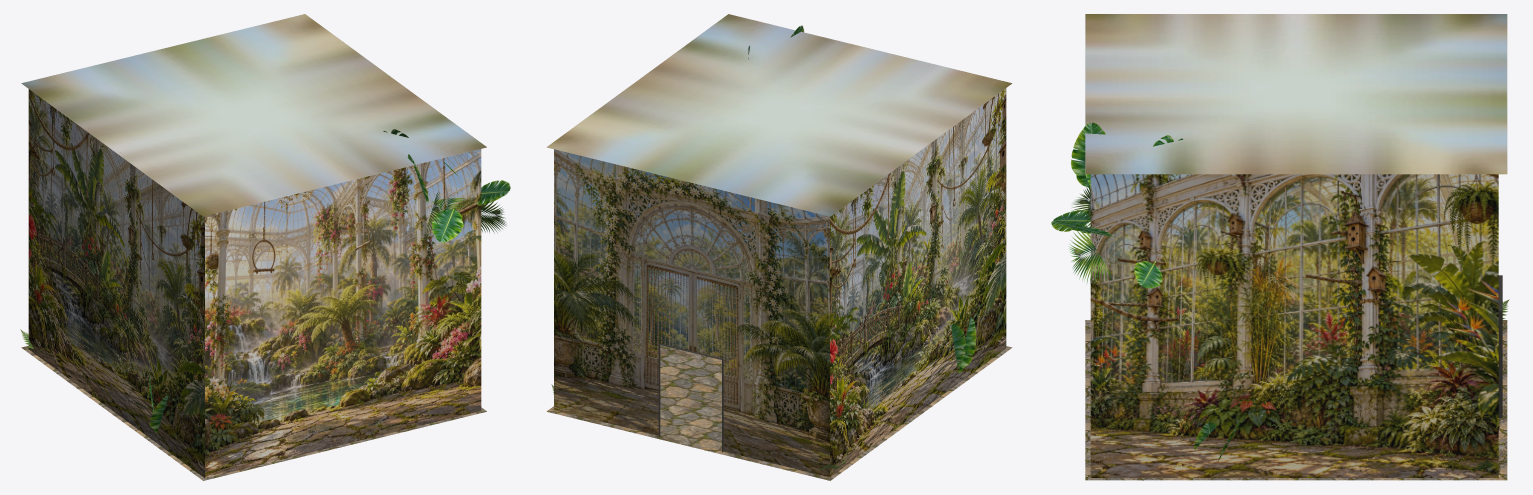
File: aviary.glb
The picture shows the model from 3 angles, left to right: view 1: azimuth 30°, elevation 25°; view 2: azimuth 150°, elevation 25°; view 3: azimuth 270°, elevation 25°; orthographic projection. The views are drawn at different scales.
Parts seen in each view (by area): view 1: Mural.aviary.back, Mural.aviary.ceiling, Mural.aviary.right, Card.jungle.leaves-1, Floor, Card.jungle.leaves-2; view 2: Mural.aviary.front, Mural.aviary.ceiling, Mural.aviary.right, Floor, Card.jungle.leaves-1, Trim; view 3: Mural.aviary.left, Mural.aviary.ceiling, Floor, Card.jungle.leaves-1, Card.jungle.leaves-2, Trim.
Boxes of the visible parts, box(x1,y1,x2,y2) form: Mural.aviary.back: box(205, 149, 481, 478); Mural.aviary.ceiling: box(21, 14, 486, 216); Mural.aviary.right: box(28, 89, 204, 477); Card.jungle.leaves-1: box(146, 154, 510, 432); Floor: box(21, 346, 486, 480); Card.jungle.leaves-2: box(425, 191, 505, 235); Mural.aviary.front: box(554, 149, 829, 477); Mural.aviary.ceiling: box(546, 14, 1011, 216); Mural.aviary.right: box(830, 88, 1006, 476); Floor: box(547, 345, 1012, 480); Card.jungle.leaves-1: box(790, 25, 976, 373); Trim: box(658, 343, 723, 452); Mural.aviary.left: box(1090, 174, 1498, 477); Mural.aviary.ceiling: box(1085, 14, 1507, 174); Floor: box(1085, 320, 1507, 480); Card.jungle.leaves-1: box(1051, 122, 1245, 461); Card.jungle.leaves-2: box(1069, 186, 1110, 283); Trim: box(1498, 275, 1502, 417).
Size of the model in its own units: 10.86 by 8.44 by 11.32.
12 materials, 11 textured.
